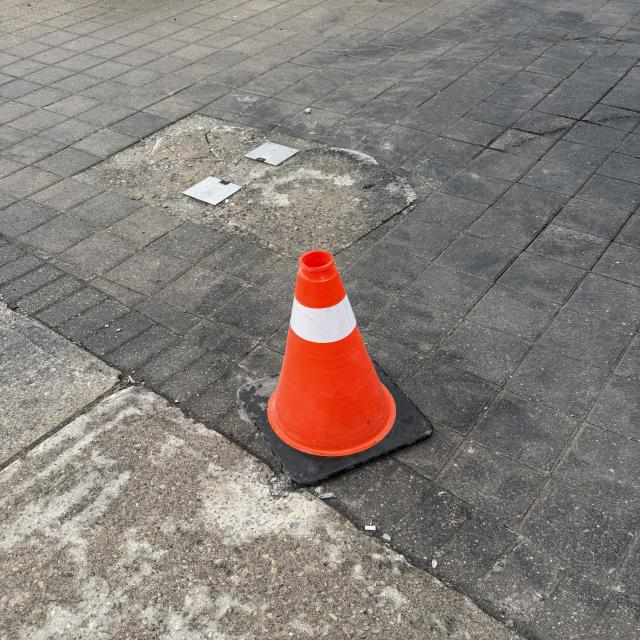Traffic Cone: (239, 251, 436, 489)
